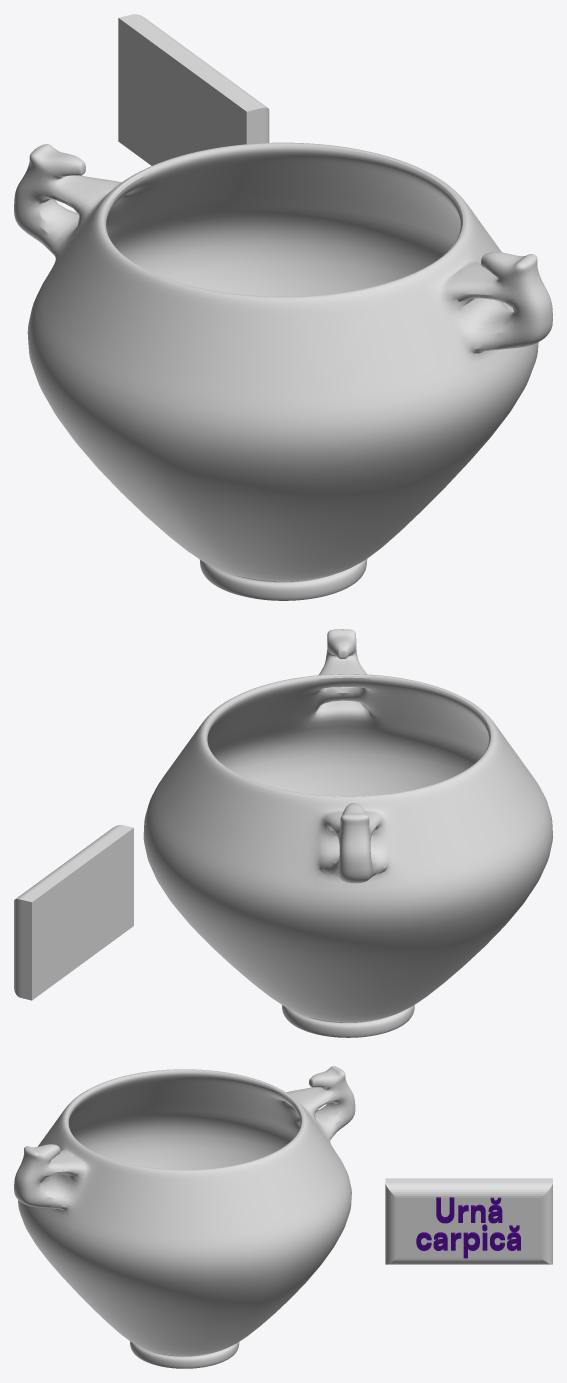
File: URN.fbx
3 renders of one model, top to bottom at view 1: azimuth 30°, elevation 25°; view 2: azimuth 150°, elevation 25°; view 3: azimuth 270°, elevation 25°, orthographic. The views are drawn at different scales.
Parts seen in each view (by area): view 1: Oala getodaca, Cube.003; view 2: Oala getodaca, Cube.003; view 3: Oala getodaca, Cube.003, Text.003.
Part boxes in pixels (<box>): Oala getodaca: <box>14,142,552,600</box>; Cube.003: <box>118,14,269,165</box>; Oala getodaca: <box>143,629,552,1037</box>; Cube.003: <box>14,825,133,1000</box>; Oala getodaca: <box>14,1066,355,1368</box>; Cube.003: <box>385,1178,552,1264</box>; Text.003: <box>416,1197,520,1258</box>.
Size of the model in its own units: 3.38 by 2.63 by 5.43.
